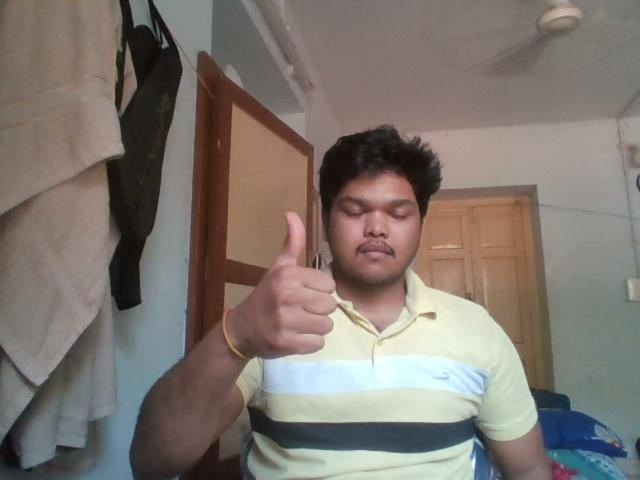yes: (227, 209, 346, 369)
